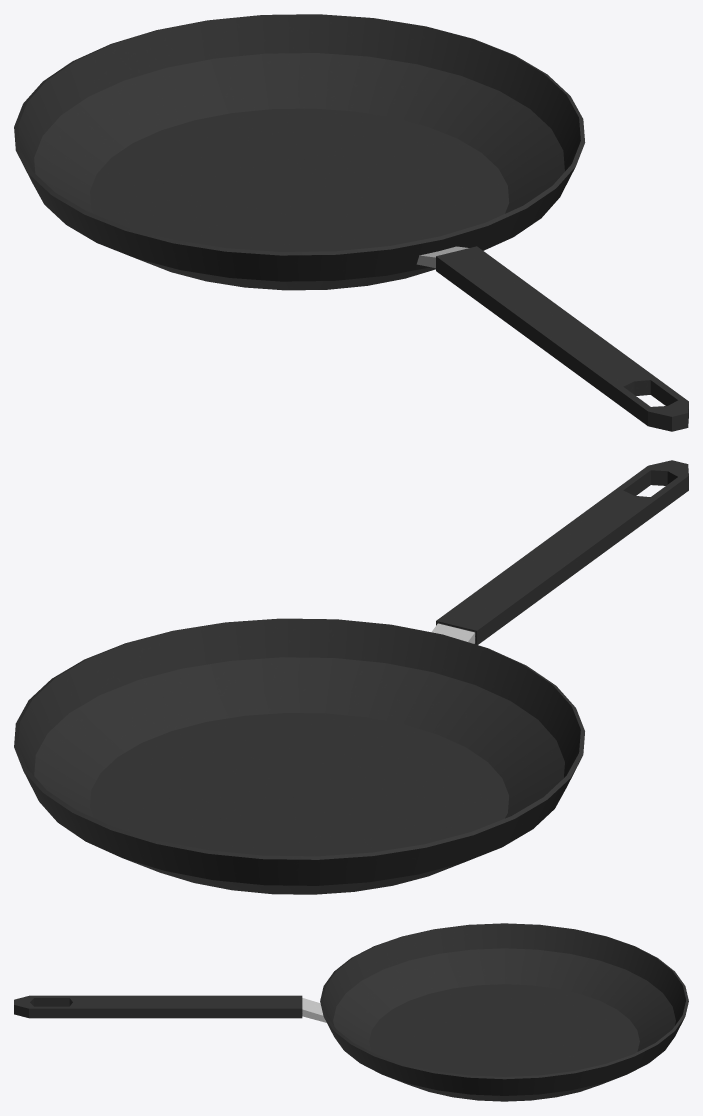
File: Fry_pan.gltf
The picture shows the model from 3 angles, top to bottom: view 1: azimuth 30°, elevation 25°; view 2: azimuth 150°, elevation 25°; view 3: azimuth 270°, elevation 25°; orthographic projection. The views are drawn at different scales.
Visible parts, largest first — view 1: Fry_pan; view 2: Fry_pan; view 3: Fry_pan.
Part boxes in pixels (box(x1,y1,x2,y2)): Fry_pan: box(14, 14, 688, 431); Fry_pan: box(14, 460, 688, 894); Fry_pan: box(14, 923, 688, 1101).
Size of the model in its own units: 11.77 by 1.55 by 21.54.
Materials: 1 (1 with a texture image).
